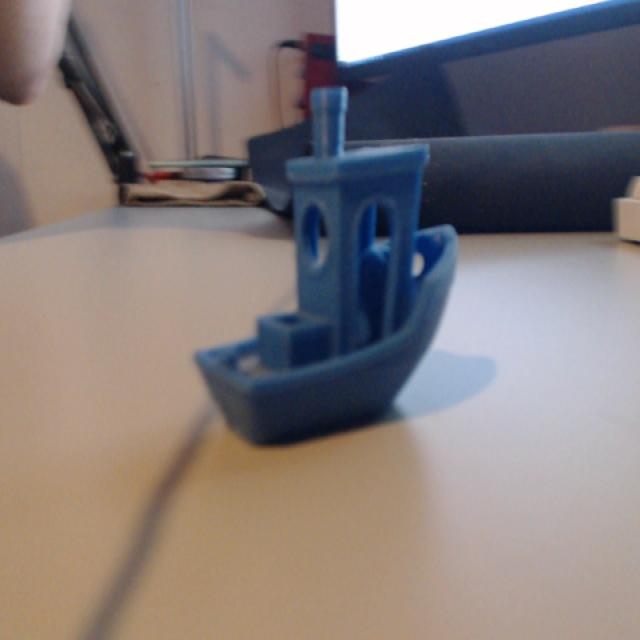benchy: (192, 82, 460, 446)
